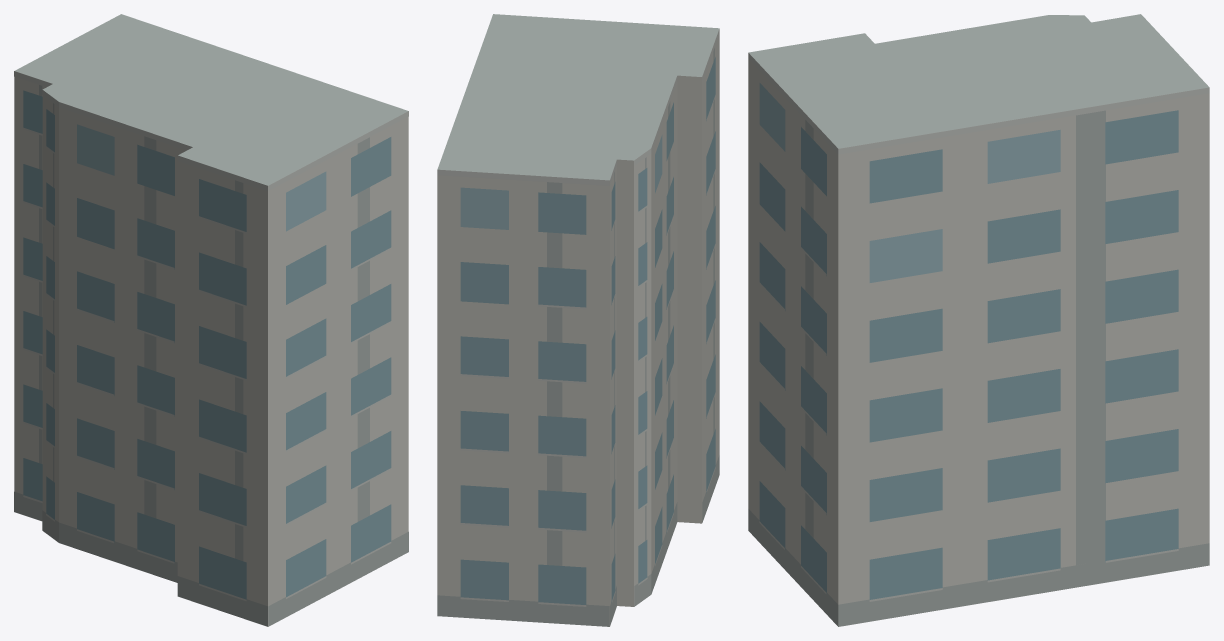
The model's file is survey-upis-32850143.glb.
3 views of the same model, side by side, from view 1: azimuth 30°, elevation 25°; view 2: azimuth 150°, elevation 25°; view 3: azimuth 270°, elevation 25° (orthographic). The views are drawn at different scales.
Visible parts, largest first — view 1: survey-upis-32850143.tmp; view 2: survey-upis-32850143.tmp; view 3: survey-upis-32850143.tmp.
Boxes of the visible parts, x1,y1,x2,y2 form: survey-upis-32850143.tmp: [14, 14, 408, 626]; survey-upis-32850143.tmp: [437, 14, 719, 626]; survey-upis-32850143.tmp: [748, 14, 1209, 626].
Size of the model in its own units: 11.87 by 19.6 by 17.15.
